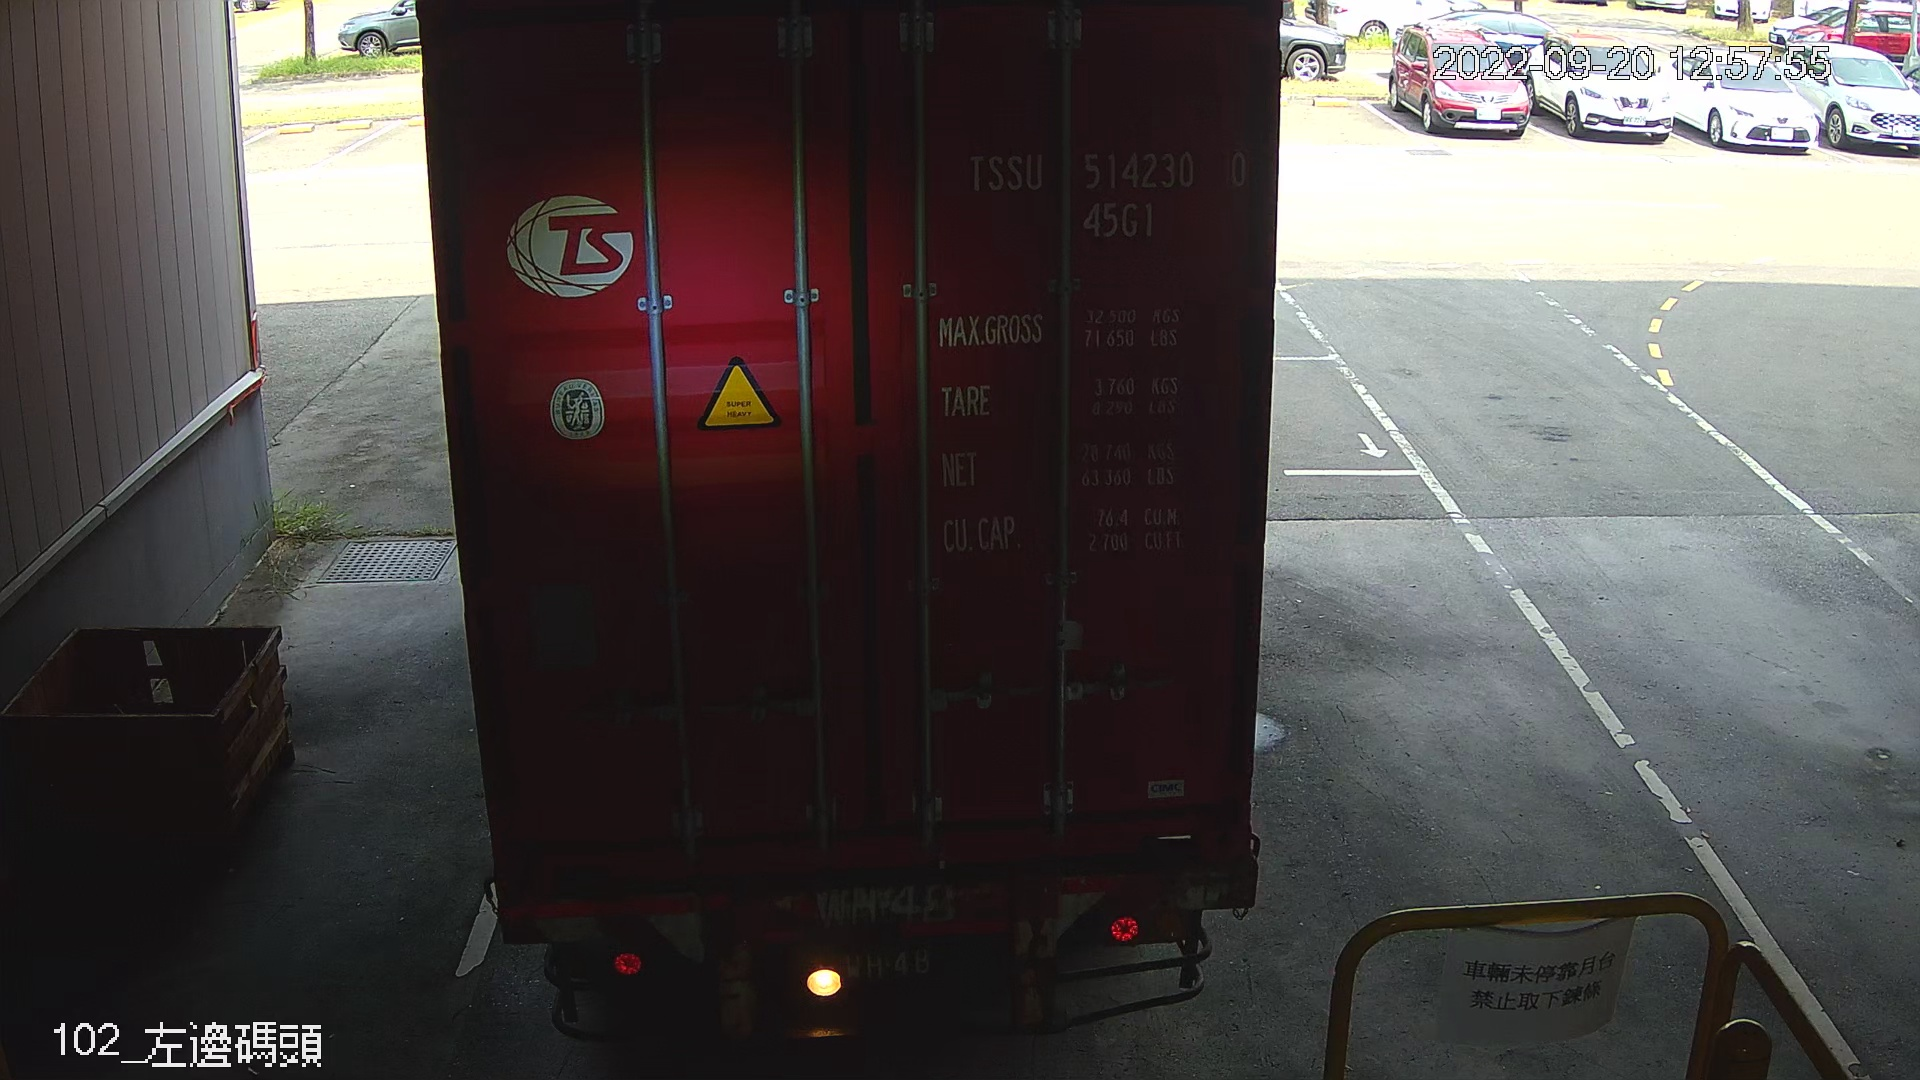container: (949, 129, 1254, 249)
